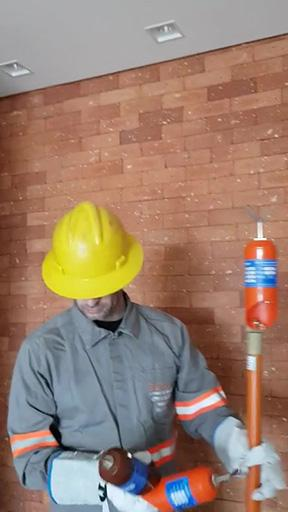Detector_Tensao_Contato: (142, 463, 247, 511), (242, 203, 279, 334), (75, 444, 160, 495)
Vara_Manobra: (242, 327, 264, 512)
